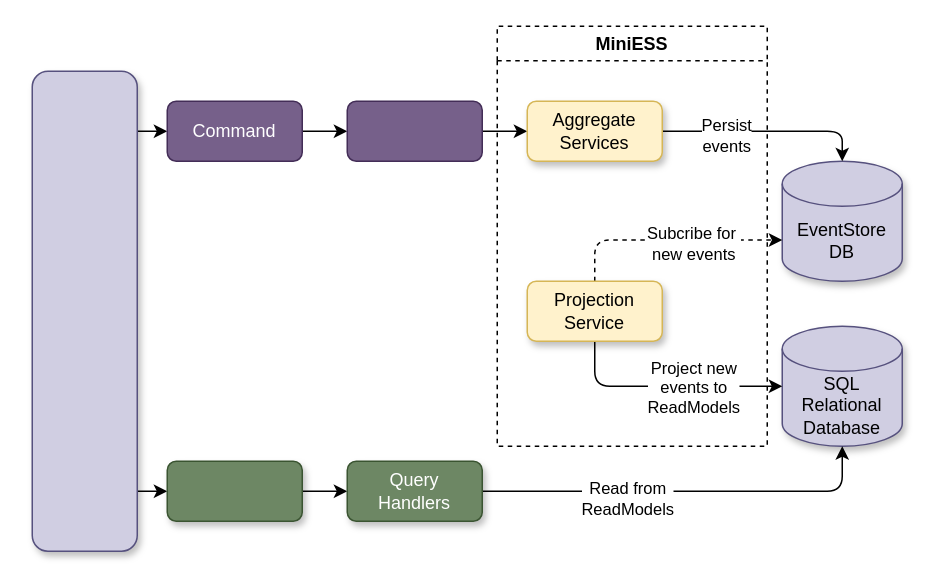
Image size: 938x588. Some labels were removed from this diagram. The shapes that lost their labels are listed below. From the top down, each one's centre as x and y in pixels, then its label:
At point 414,130: "Command Handlers".
At point 85,313: "Client".
At point 235,493: "Query".
